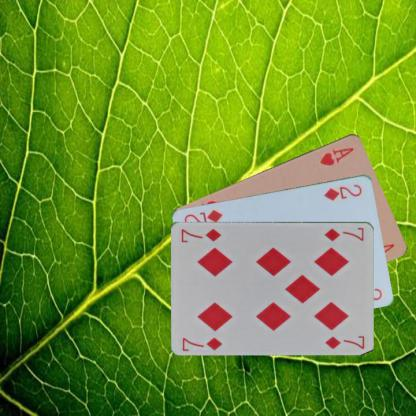2d: (322, 181, 364, 202)
7d: (180, 334, 224, 352), (322, 225, 366, 242)
Ah: (318, 144, 355, 167)
